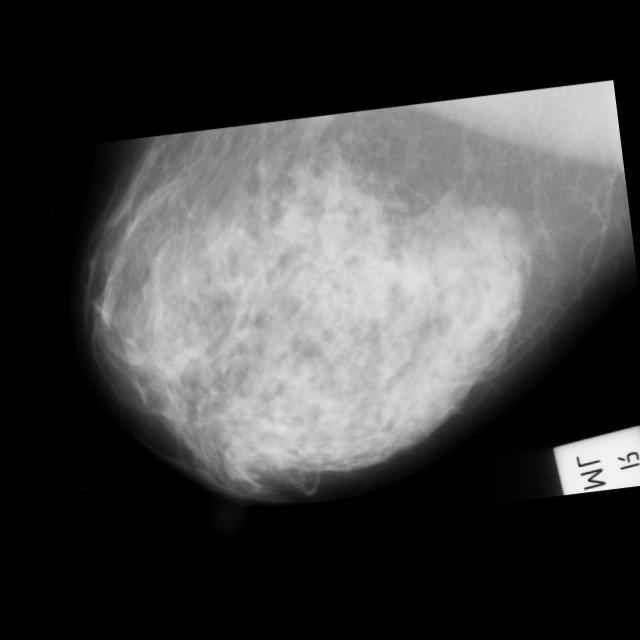ARCH: (293, 0, 611, 106)
